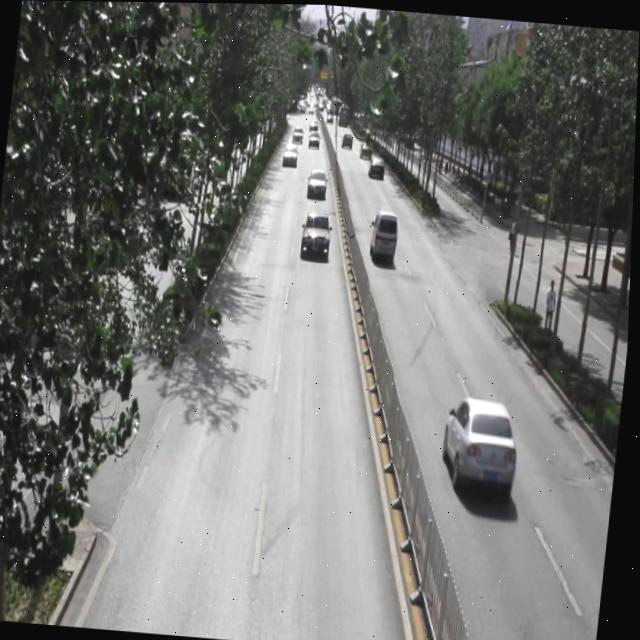car: (441, 394, 525, 495), (301, 208, 335, 256), (306, 165, 330, 195), (368, 151, 387, 178), (282, 139, 299, 166), (307, 128, 321, 149), (291, 123, 305, 144), (359, 139, 373, 157), (341, 128, 353, 146)
truck: (369, 206, 401, 262)
